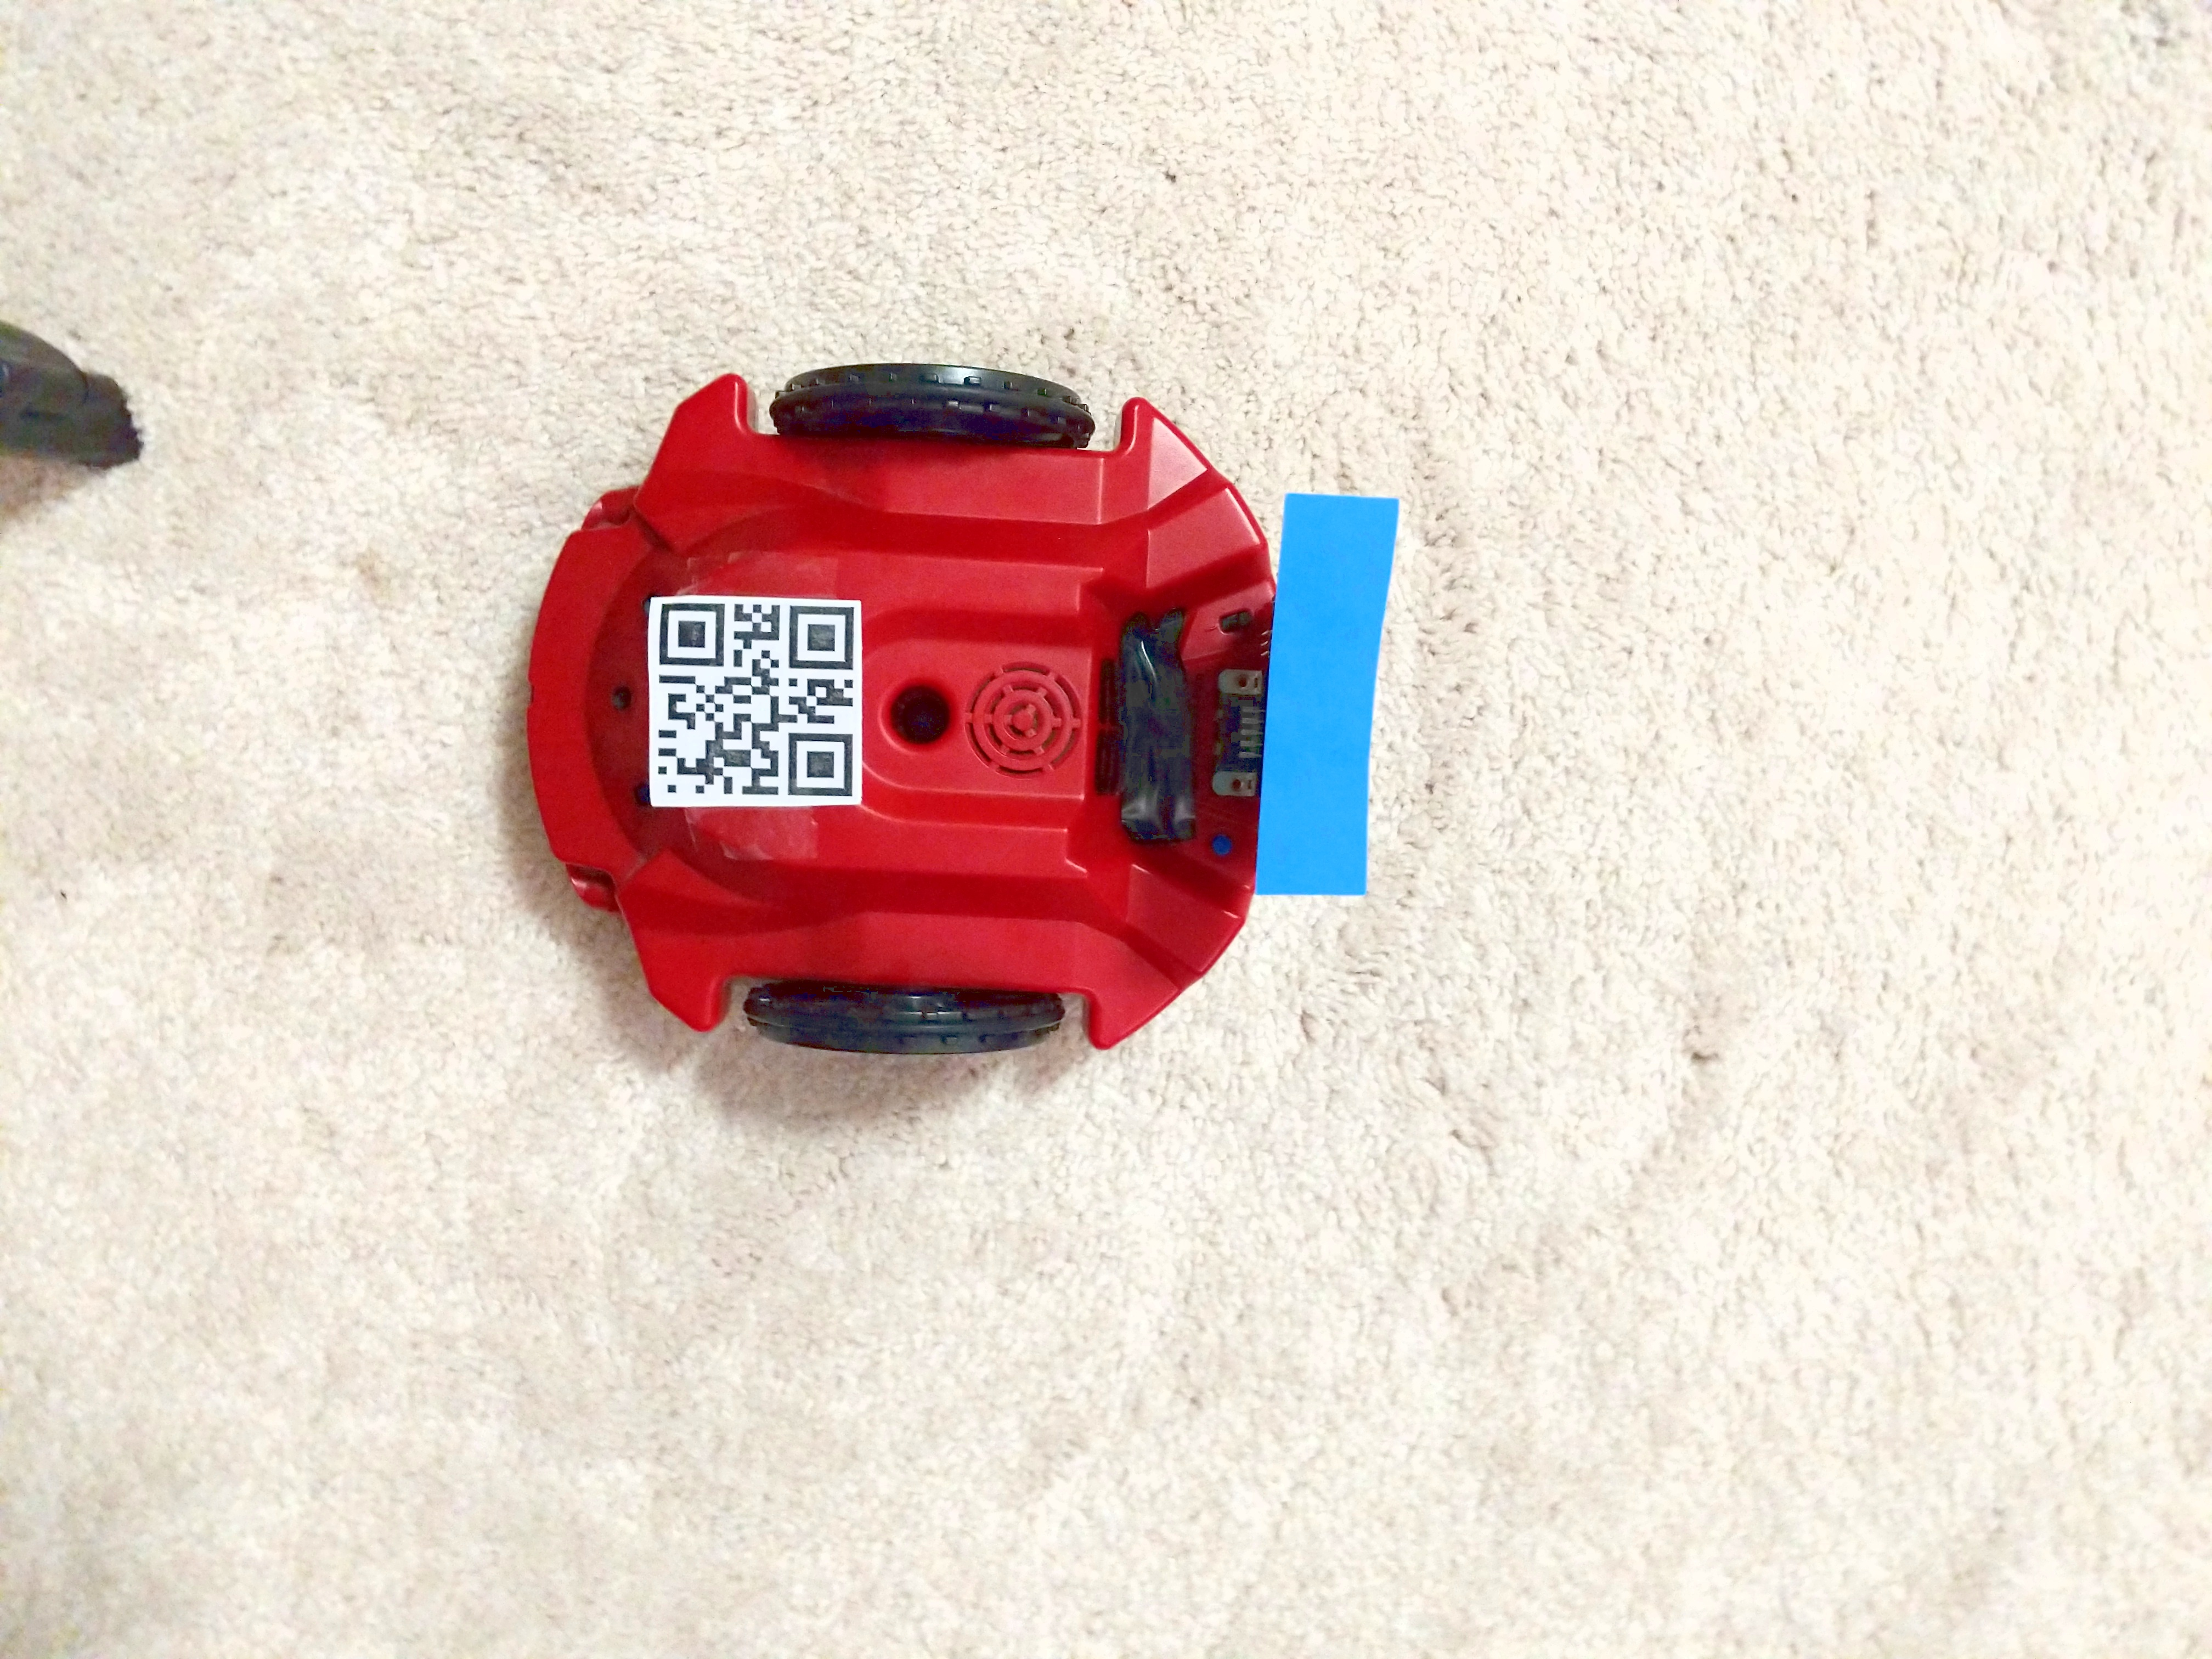board: (784, 737, 1078, 1134)
chassis: (780, 592, 1712, 1309)
